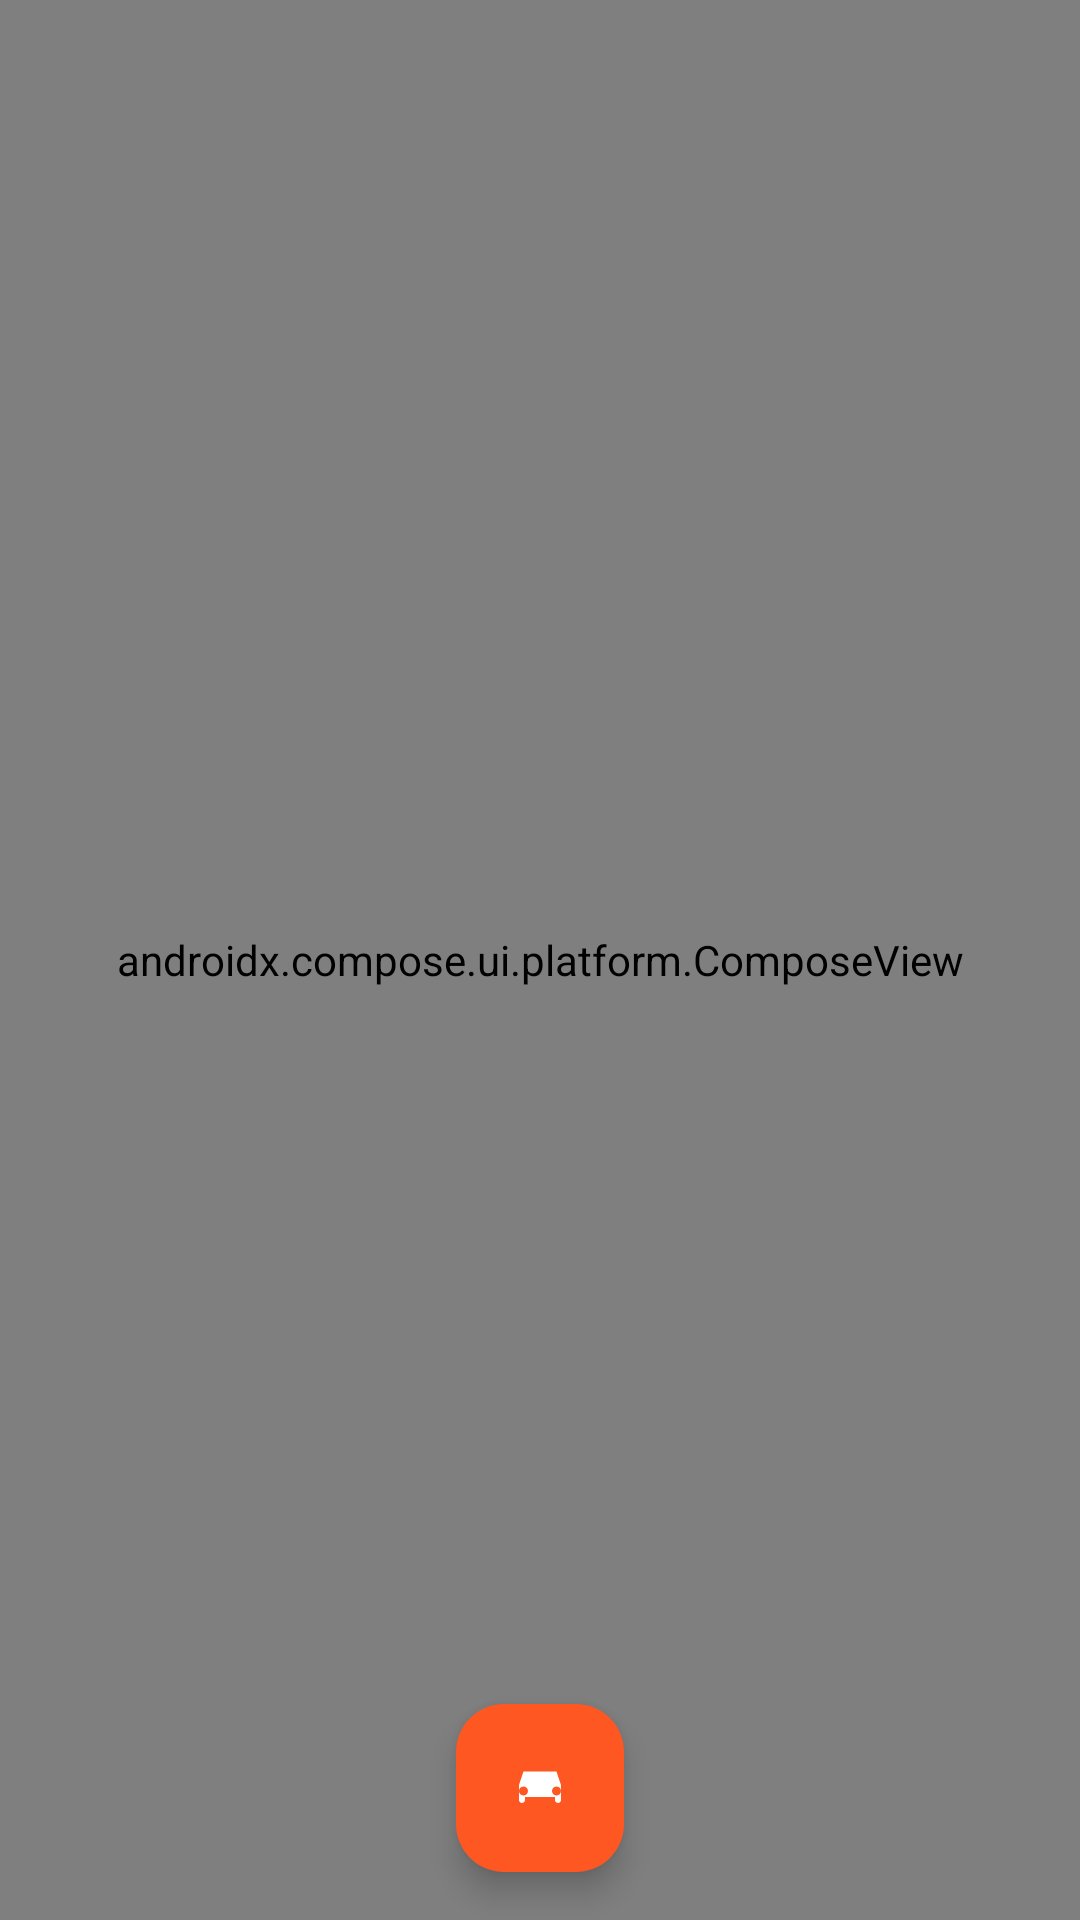

Screen size 1080px×1920px. Icon name, then its box in pixels as (x1, y1, x2, y2):
Start: (456, 1704, 624, 1872)
